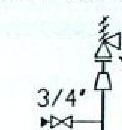psv: (94, 14, 122, 62)
